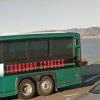Bus: (2, 31, 86, 95)
